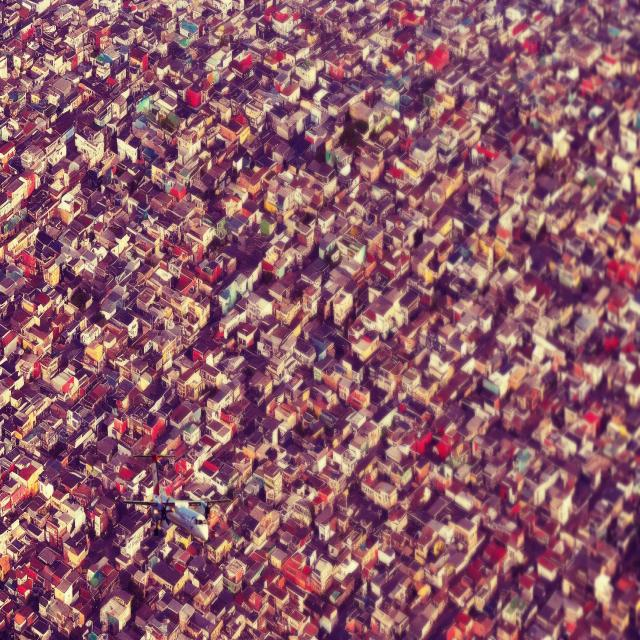airplane: (123, 456, 232, 542)
